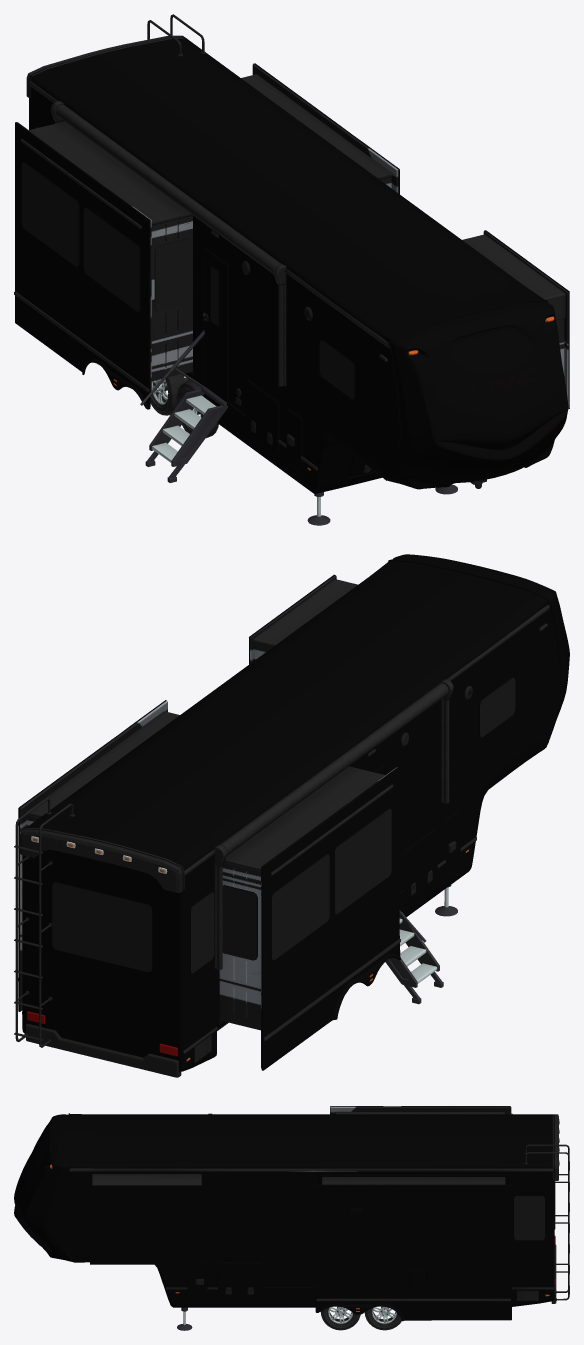
Rendered from Luxe_Gold_35GRS.glb.
3 views of the same model, one above another, from view 1: azimuth 30°, elevation 25°; view 2: azimuth 150°, elevation 25°; view 3: azimuth 270°, elevation 25° (orthographic). The views are drawn at different scales.
Parts seen in each view (by area): view 1: main_body, Back_right__slideout, window_glass, Back_left_slideout, stair_exterior, front_right_slideout, main_door, wheels2; view 2: main_body, Back_right__slideout, window_glass, Back_left_slideout, front_right_slideout, stair_exterior; view 3: main_body, Back_left_slideout, front_right_slideout, Back_right__slideout, window_glass, wheels4, wheels3.
Boxes of the visible parts, left/top/right/bottom form: main_body: left=26, top=14, right=568, bottom=525; Back_right__slideout: left=14, top=121, right=192, bottom=409; window_glass: left=21, top=127, right=354, bottom=399; Back_left_slideout: left=241, top=63, right=399, bottom=194; stair_exterior: left=140, top=330, right=226, bottom=482; front_right_slideout: left=462, top=230, right=569, bottom=408; main_door: left=203, top=249, right=227, bottom=402; wheels2: left=150, top=374, right=185, bottom=415; main_body: left=14, top=554, right=569, bottom=1077; Back_right__slideout: left=219, top=766, right=400, bottom=1070; window_glass: left=52, top=677, right=515, bottom=973; Back_left_slideout: left=18, top=700, right=179, bottom=1011; front_right_slideout: left=249, top=574, right=357, bottom=664; stair_exterior: left=385, top=910, right=443, bottom=1004; main_body: left=14, top=1113, right=569, bottom=1330; Back_left_slideout: left=315, top=1177, right=511, bottom=1321; front_right_slideout: left=90, top=1174, right=203, bottom=1264; Back_right__slideout: left=330, top=1106, right=511, bottom=1114; window_glass: left=514, top=1196, right=544, bottom=1240; wheels4: left=320, top=1306, right=360, bottom=1330; wheels3: left=364, top=1306, right=401, bottom=1330.
Bounding box in the file's own units: 4.32 × 4.19 × 11.81.
Materials: 16 (9 with a texture image).
